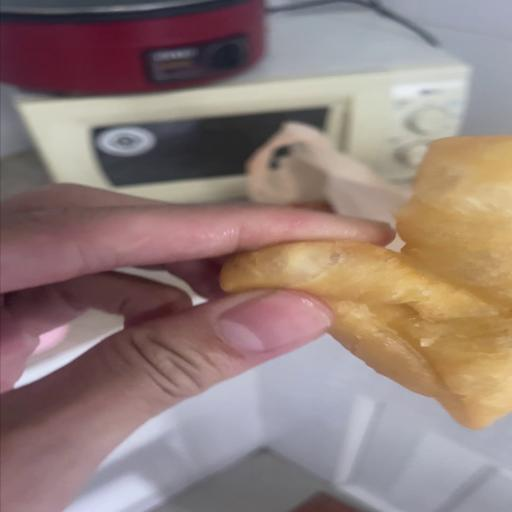street_golden_defect: (222, 134, 512, 428)
